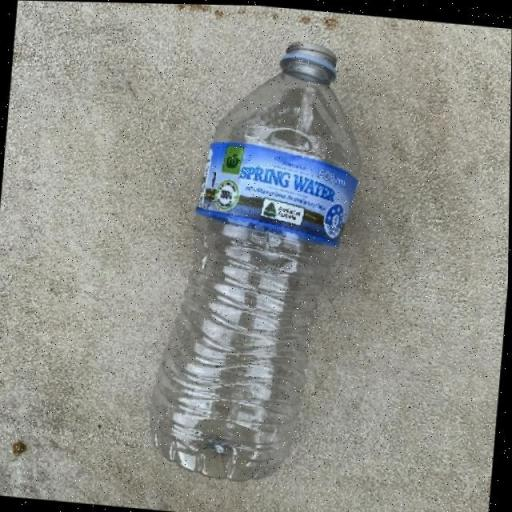plastic: (144, 27, 372, 489)
